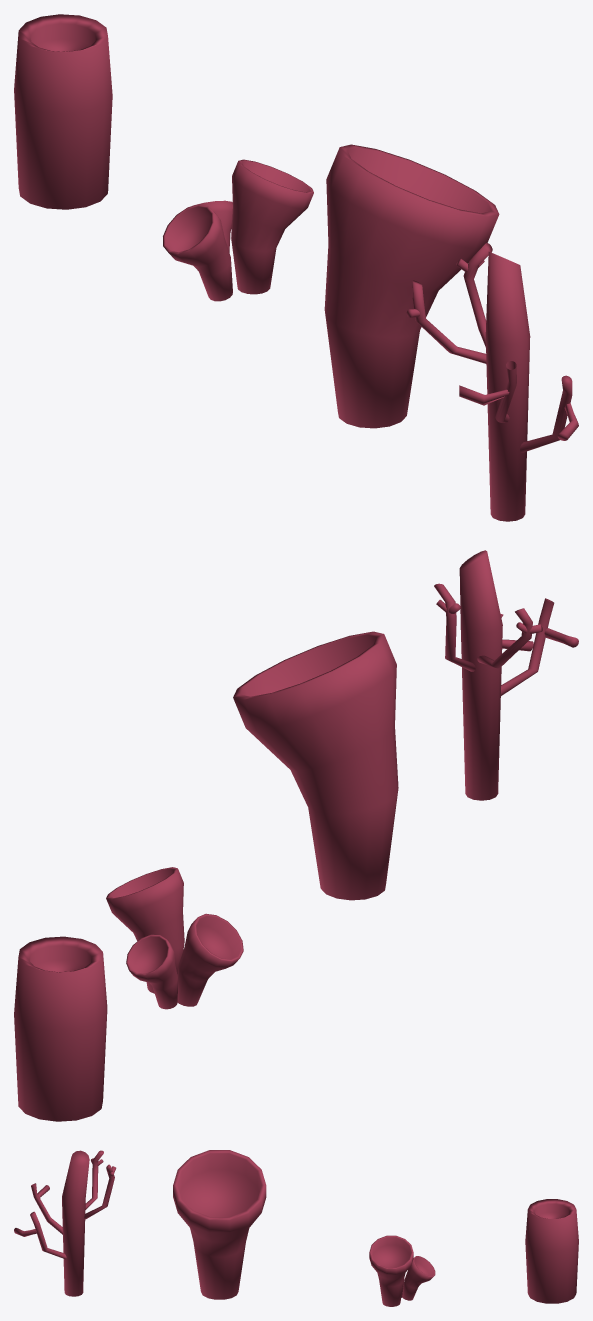
The model's file is Coral.fbx.
3 renders of one model, top to bottom at view 1: azimuth 30°, elevation 25°; view 2: azimuth 150°, elevation 25°; view 3: azimuth 270°, elevation 25°, orthographic. The views are drawn at different scales.
Visible parts, largest first — view 1: Cylinder, Cylinder.001, Cylinder.004, Cylinder.007; view 2: Cylinder, Cylinder.001, Cylinder.004, Cylinder.007; view 3: Cylinder, Cylinder.001, Cylinder.004, Cylinder.007.
Part boxes in pixels (<box>): Cylinder: <box>324,144,499,428</box>; Cylinder.001: <box>14,14,112,209</box>; Cylinder.004: <box>406,243,578,521</box>; Cylinder.007: <box>163,159,313,301</box>; Cylinder: <box>233,631,398,900</box>; Cylinder.001: <box>14,936,107,1121</box>; Cylinder.004: <box>434,550,578,800</box>; Cylinder.007: <box>106,867,243,1009</box>; Cylinder: <box>173,1150,266,1299</box>; Cylinder.001: <box>525,1199,578,1303</box>; Cylinder.004: <box>14,1150,116,1296</box>; Cylinder.007: <box>369,1235,435,1306</box>.
Bounding box in the file's own units: 96.48 × 125 × 450.
